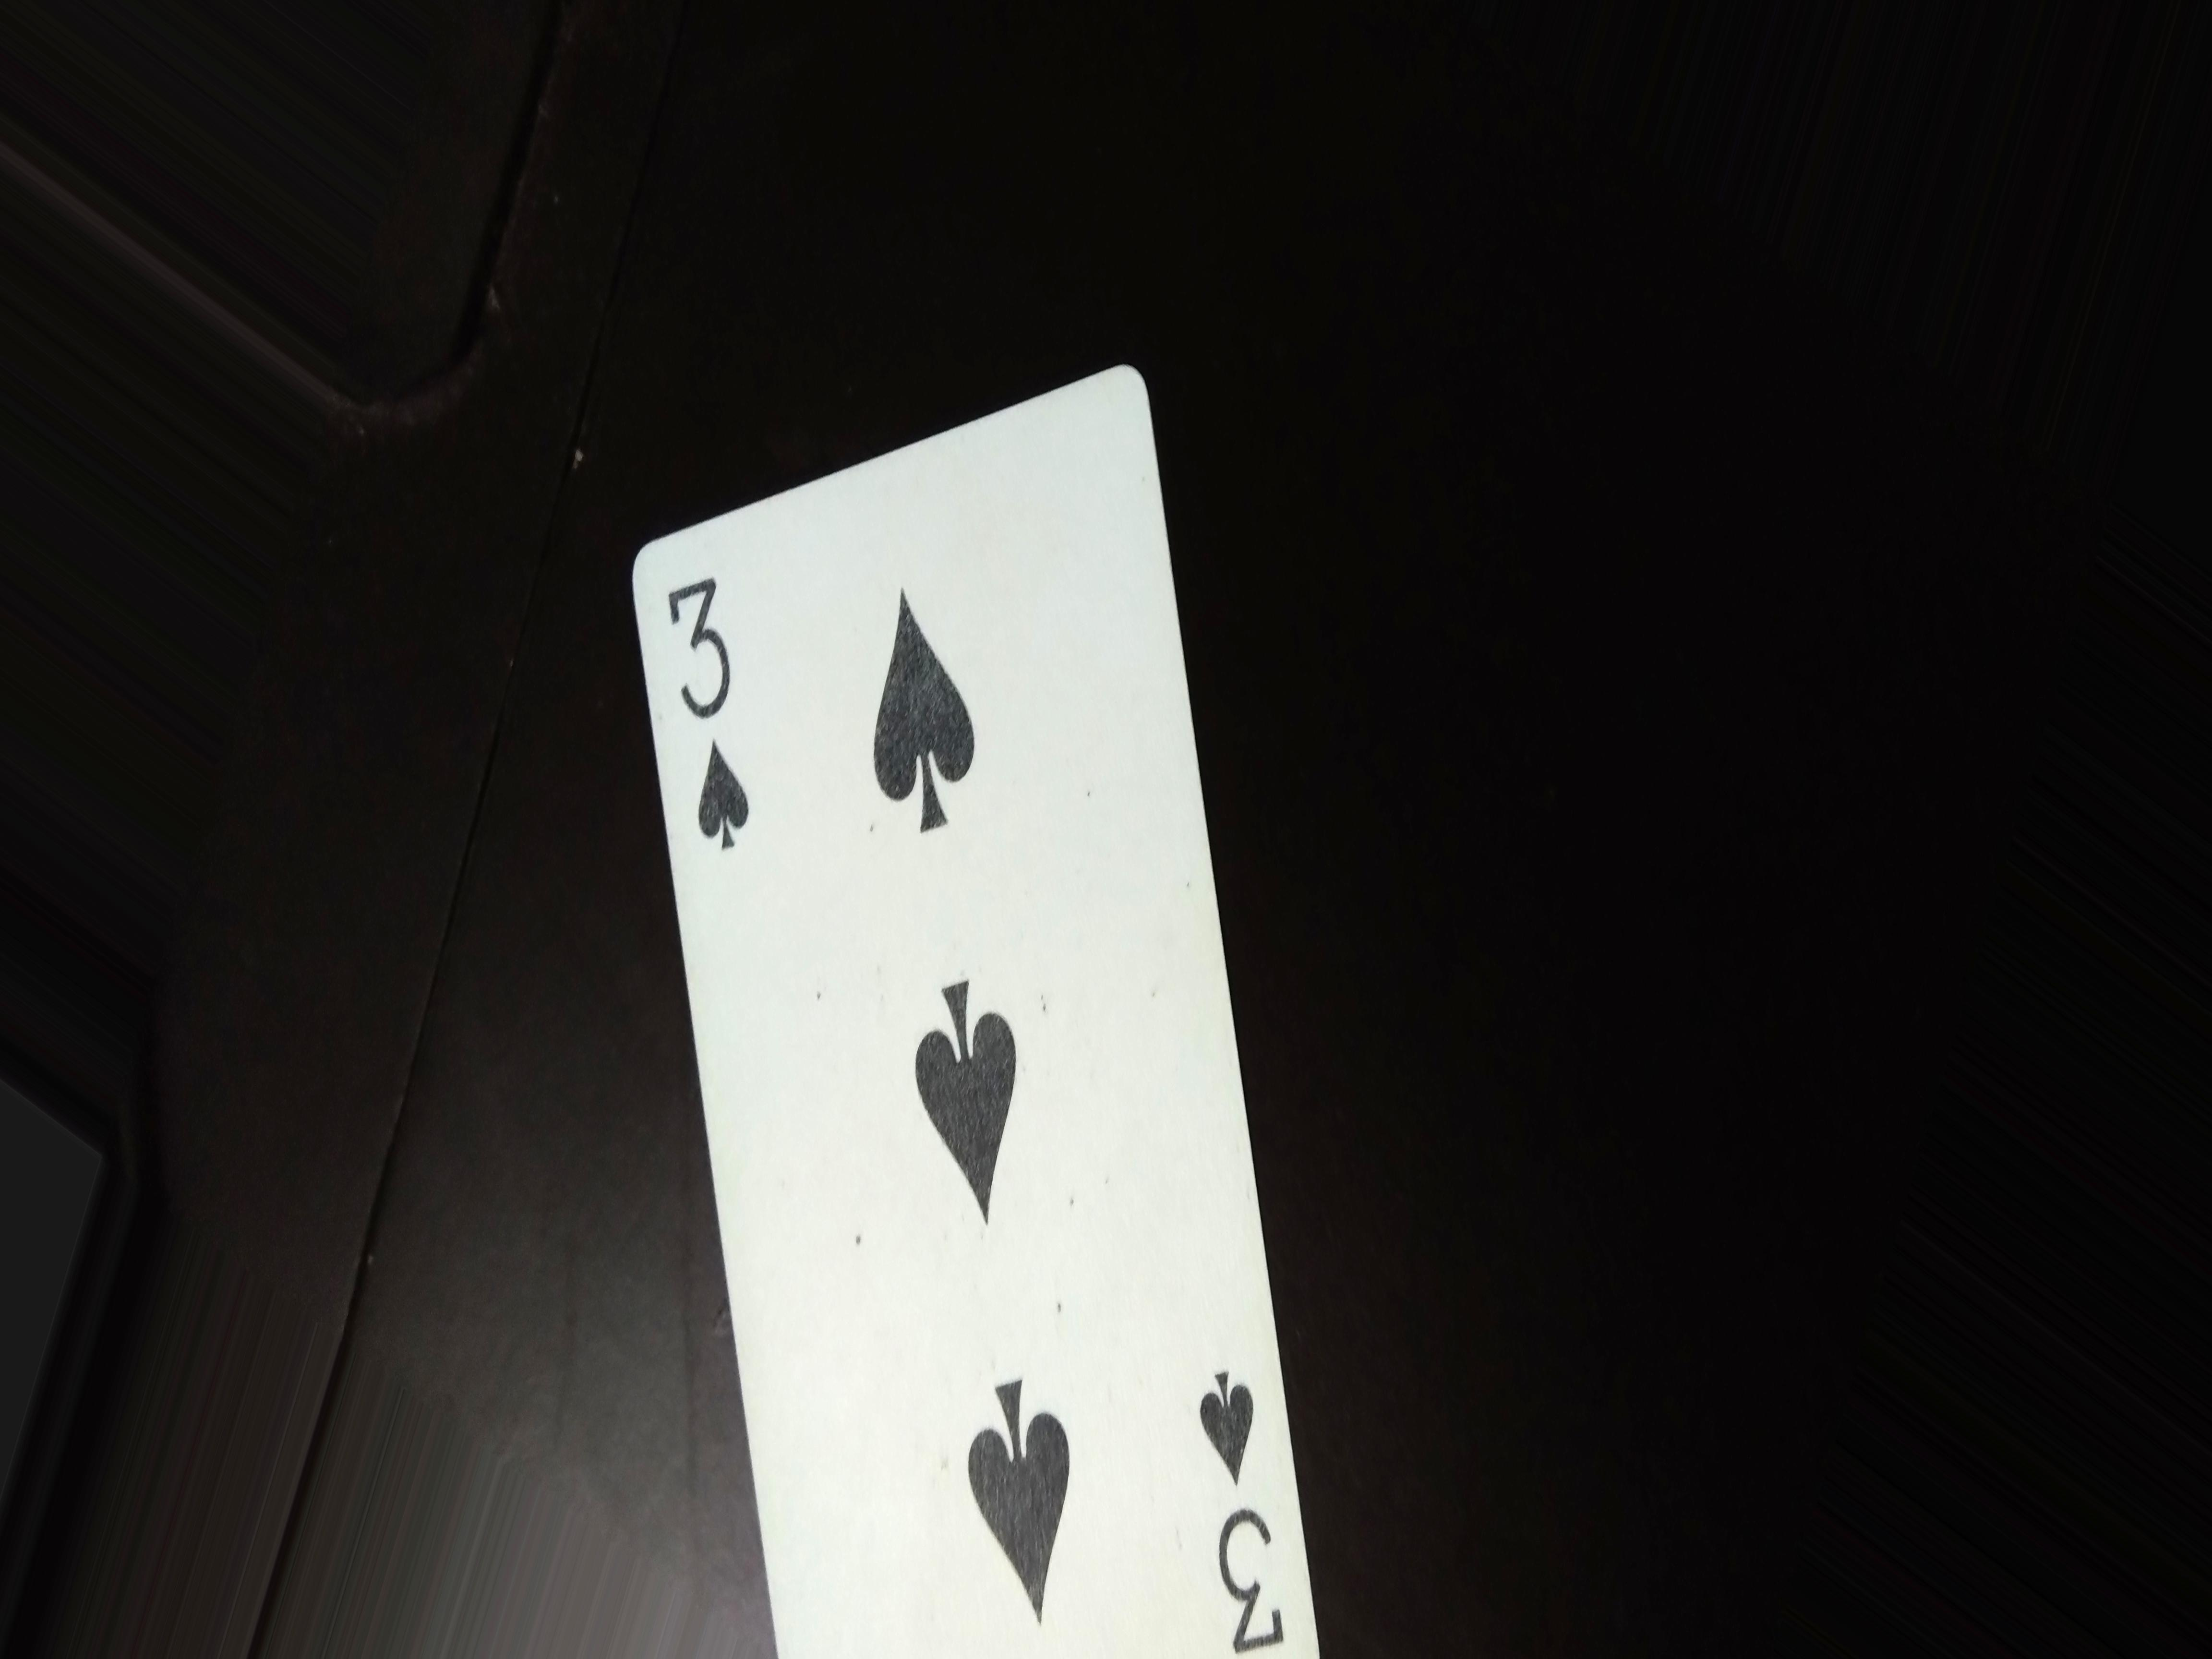3S: (658, 556, 777, 878)
